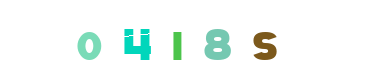4: (127, 0, 207, 80)
8: (148, 0, 228, 80)
I: (137, 0, 217, 80)
O: (98, 0, 178, 80)
S: (225, 0, 305, 80)
